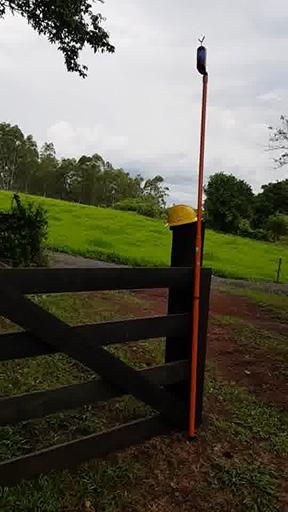Detector_Tensao_Contato: (195, 35, 209, 76)
Vara_Manobra: (187, 75, 209, 438)
